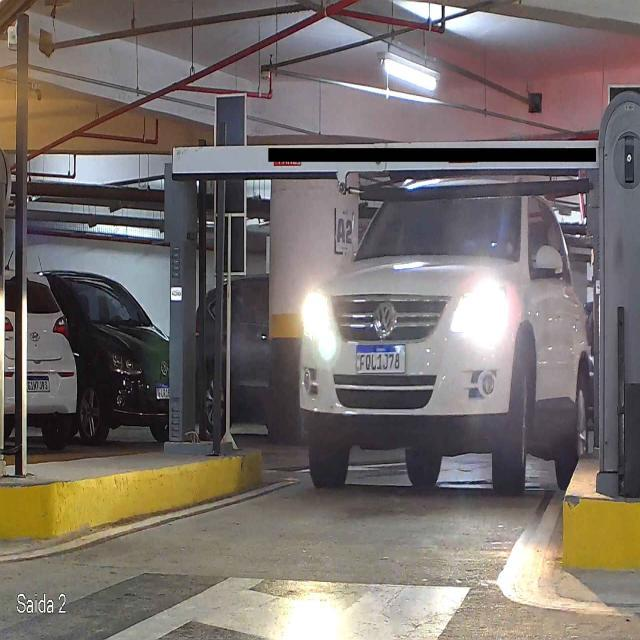mercosul_plate: (354, 343, 407, 374)
